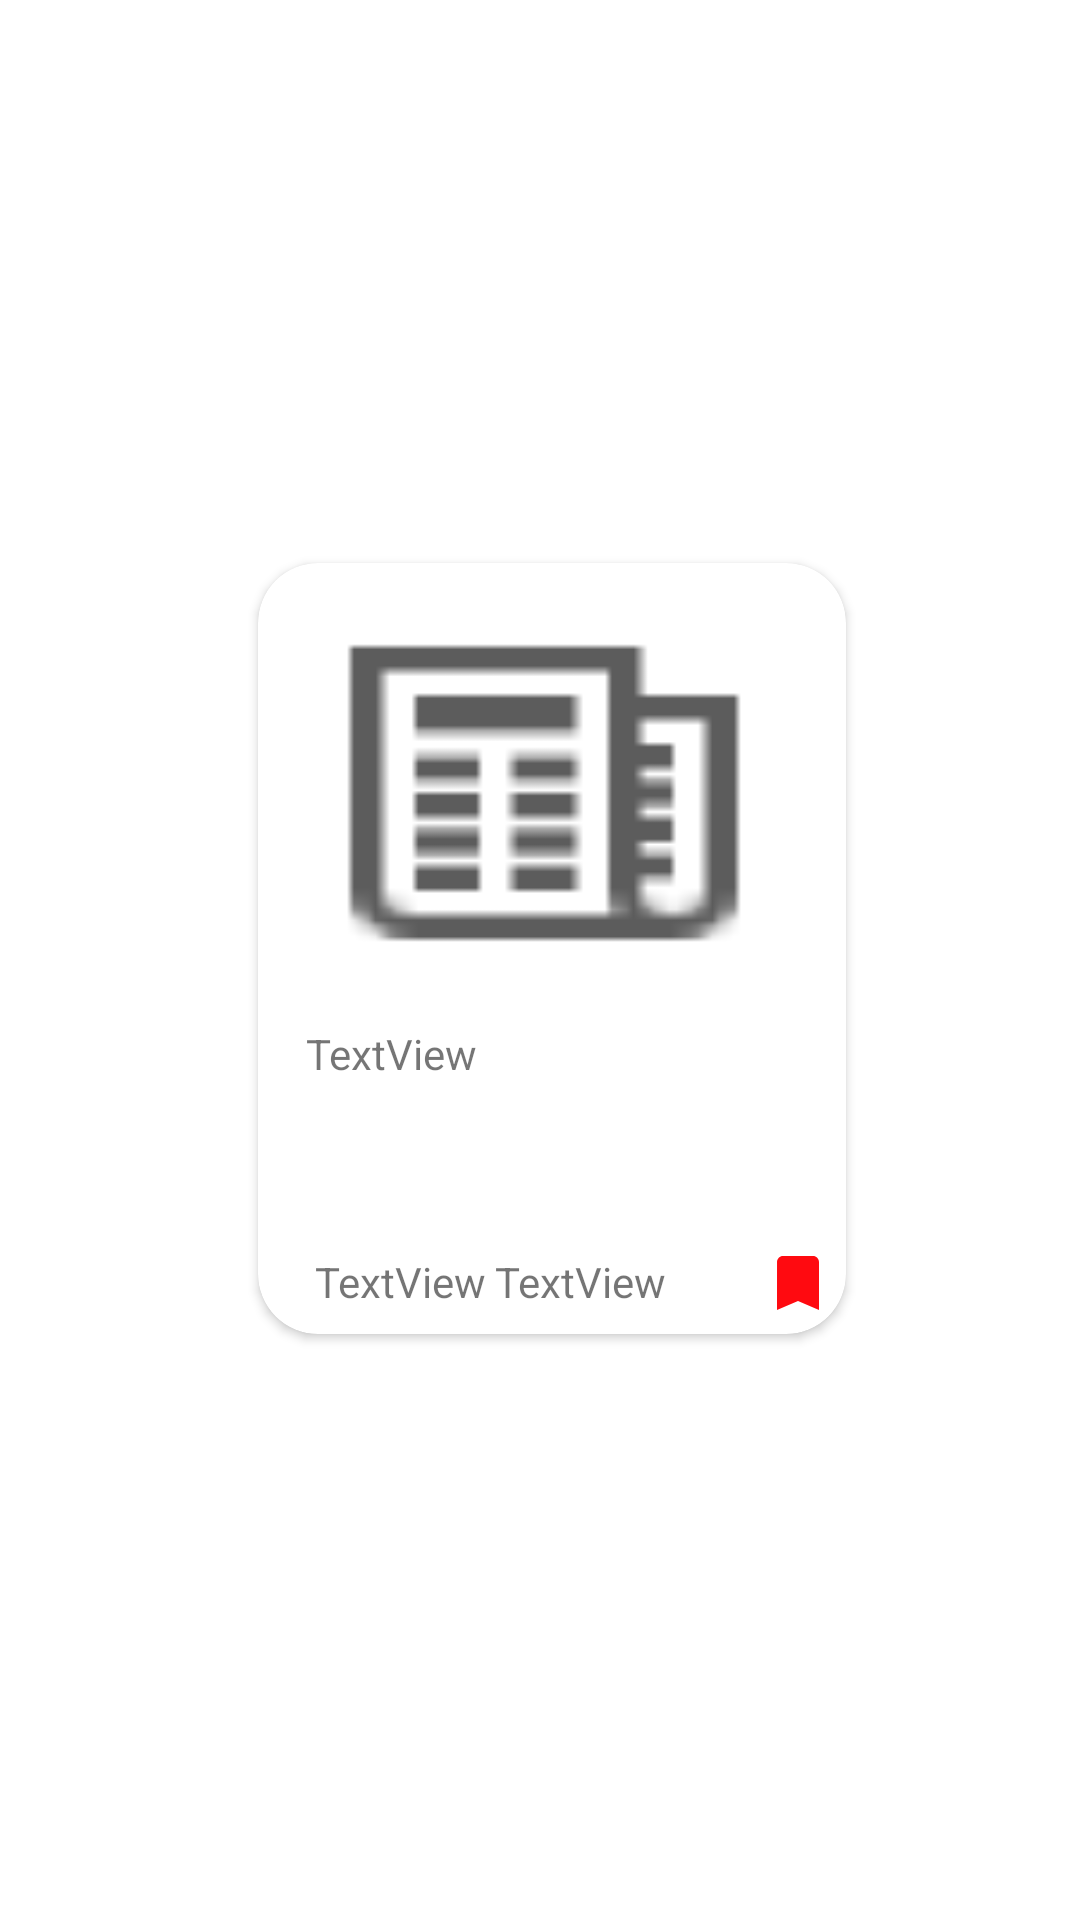

Icons on this 1080×1920 Android screen, each with its box as bbox=(x1, y1, x2, y2):
bookmark: bbox=(777, 1256, 819, 1310)
